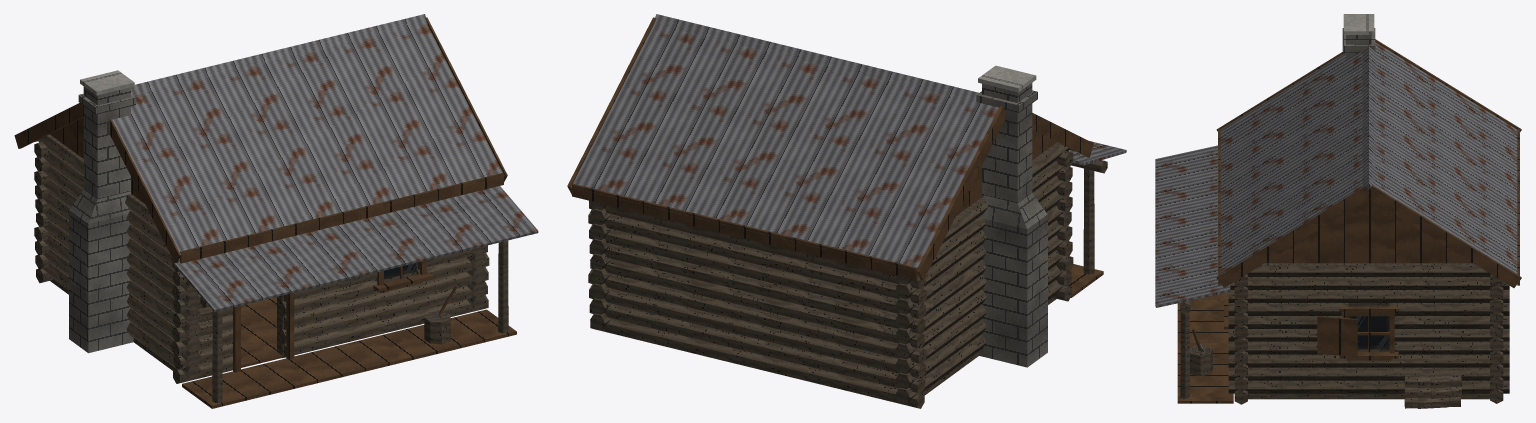
Rendered from cabin.glb.
The picture shows the model from 3 angles, left to right: view 1: azimuth 30°, elevation 25°; view 2: azimuth 150°, elevation 25°; view 3: azimuth 270°, elevation 25°; orthographic projection. The views are drawn at different scales.
Visible parts, largest first — view 1: detail, shell-col; view 2: detail, shell-col; view 3: detail, shell-col.
Boxes of the visible parts, x1=… form: detail: x1=14, y1=14, x2=538, y2=408; shell-col: x1=50, y1=133, x2=417, y2=370; detail: x1=567, y1=14, x2=1126, y2=408; shell-col: x1=922, y1=141, x2=1056, y2=395; detail: x1=1155, y1=14, x2=1521, y2=408; shell-col: x1=1248, y1=260, x2=1489, y2=399.
Size of what is drawn, in the model's own units: 7.51 by 5.18 by 7.17.
13 materials, 13 textured.
